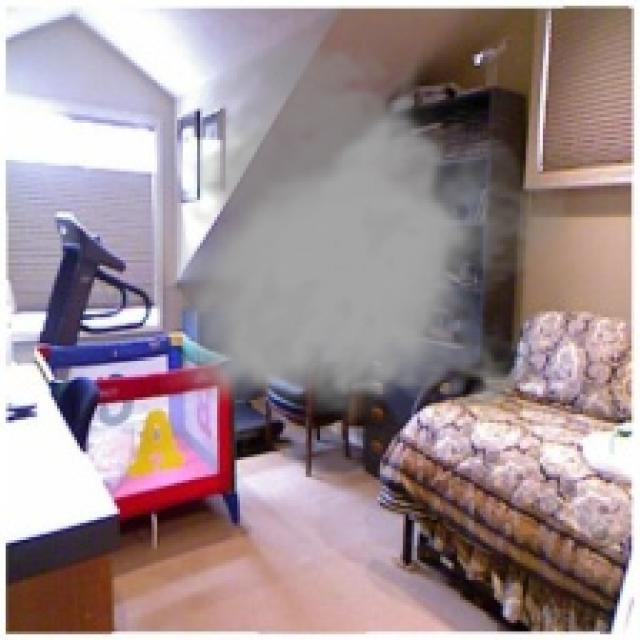smoke: (160, 40, 569, 423)
